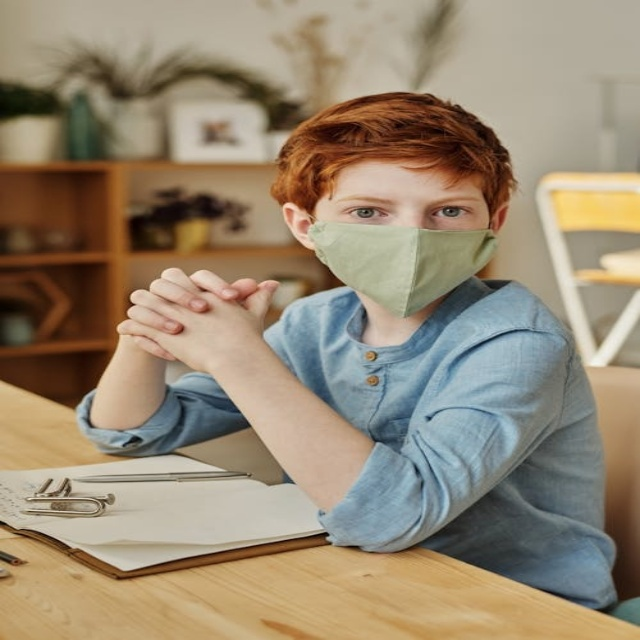Mascara: (306, 218, 497, 318)
Sin_gafas: (329, 190, 483, 224)
Sin_guantes: (120, 266, 280, 373)
